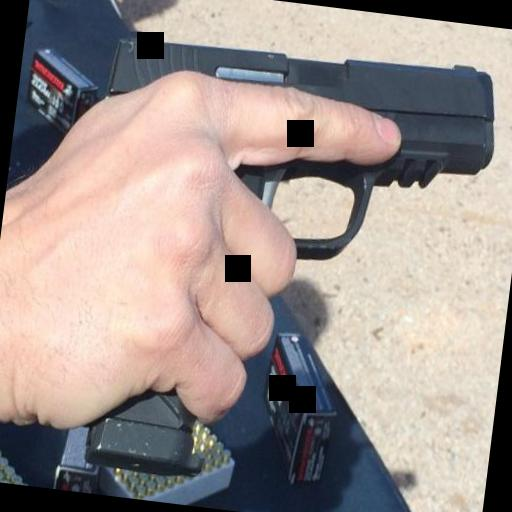Handgun: (58, 12, 506, 508)
